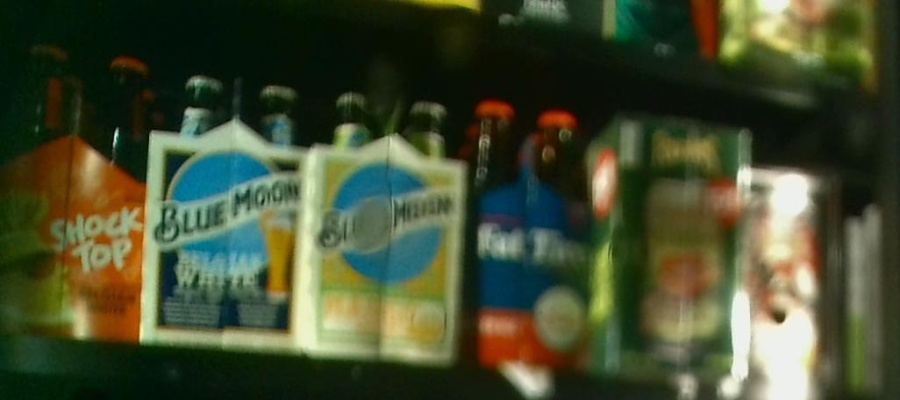bottle: (145, 61, 306, 351), (304, 83, 465, 373), (1, 37, 142, 346), (589, 114, 750, 378), (462, 100, 596, 373)
